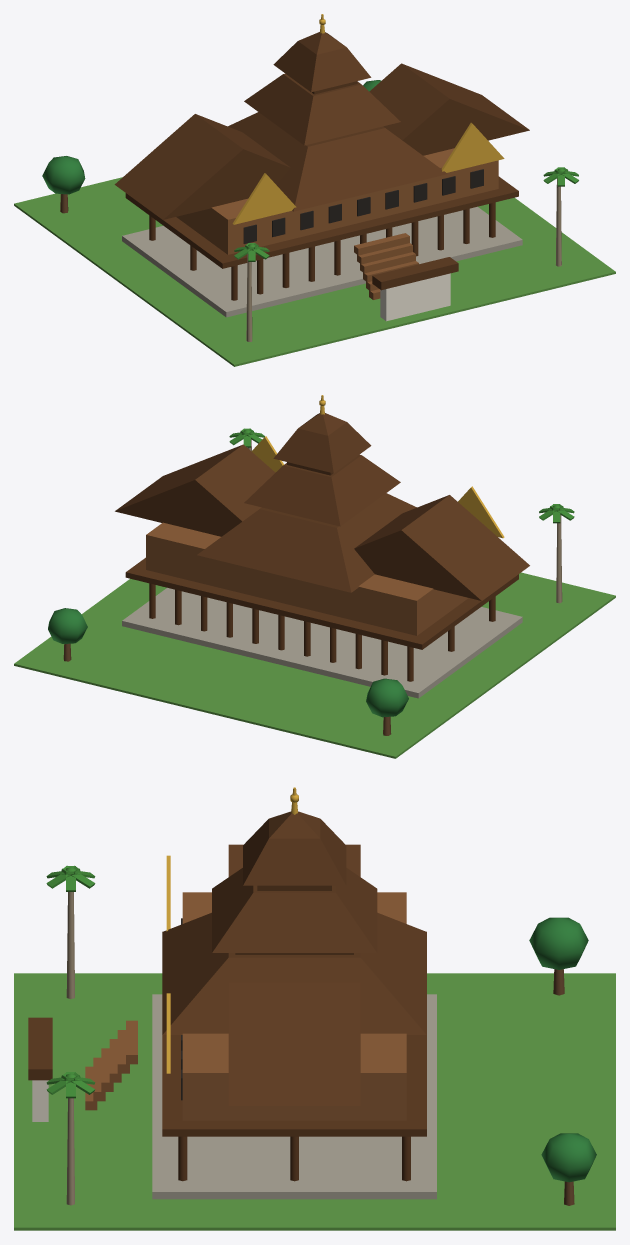
The model's file is building_istana.glb.
The picture shows the model from 3 angles, top to bottom: view 1: azimuth 30°, elevation 25°; view 2: azimuth 150°, elevation 25°; view 3: azimuth 270°, elevation 25°; orthographic projection. The views are drawn at different scales.
Parts seen in each view (by area): view 1: building_istana; view 2: building_istana; view 3: building_istana.
Boxes of the visible parts, x1,y1,x2,y2 form: building_istana: (14,14,615,366); building_istana: (14,395,615,758); building_istana: (14,787,615,1230).
Bounding box in the file's own units: 2.96 × 1.71 × 2.96.
